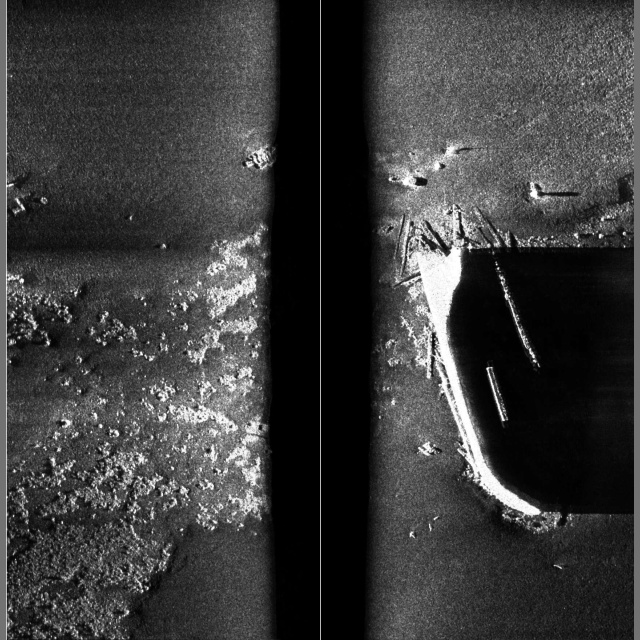Shipwreck: (6, 145, 594, 570)
